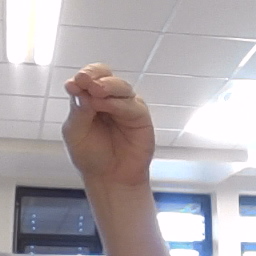M: (53, 58, 166, 178)
